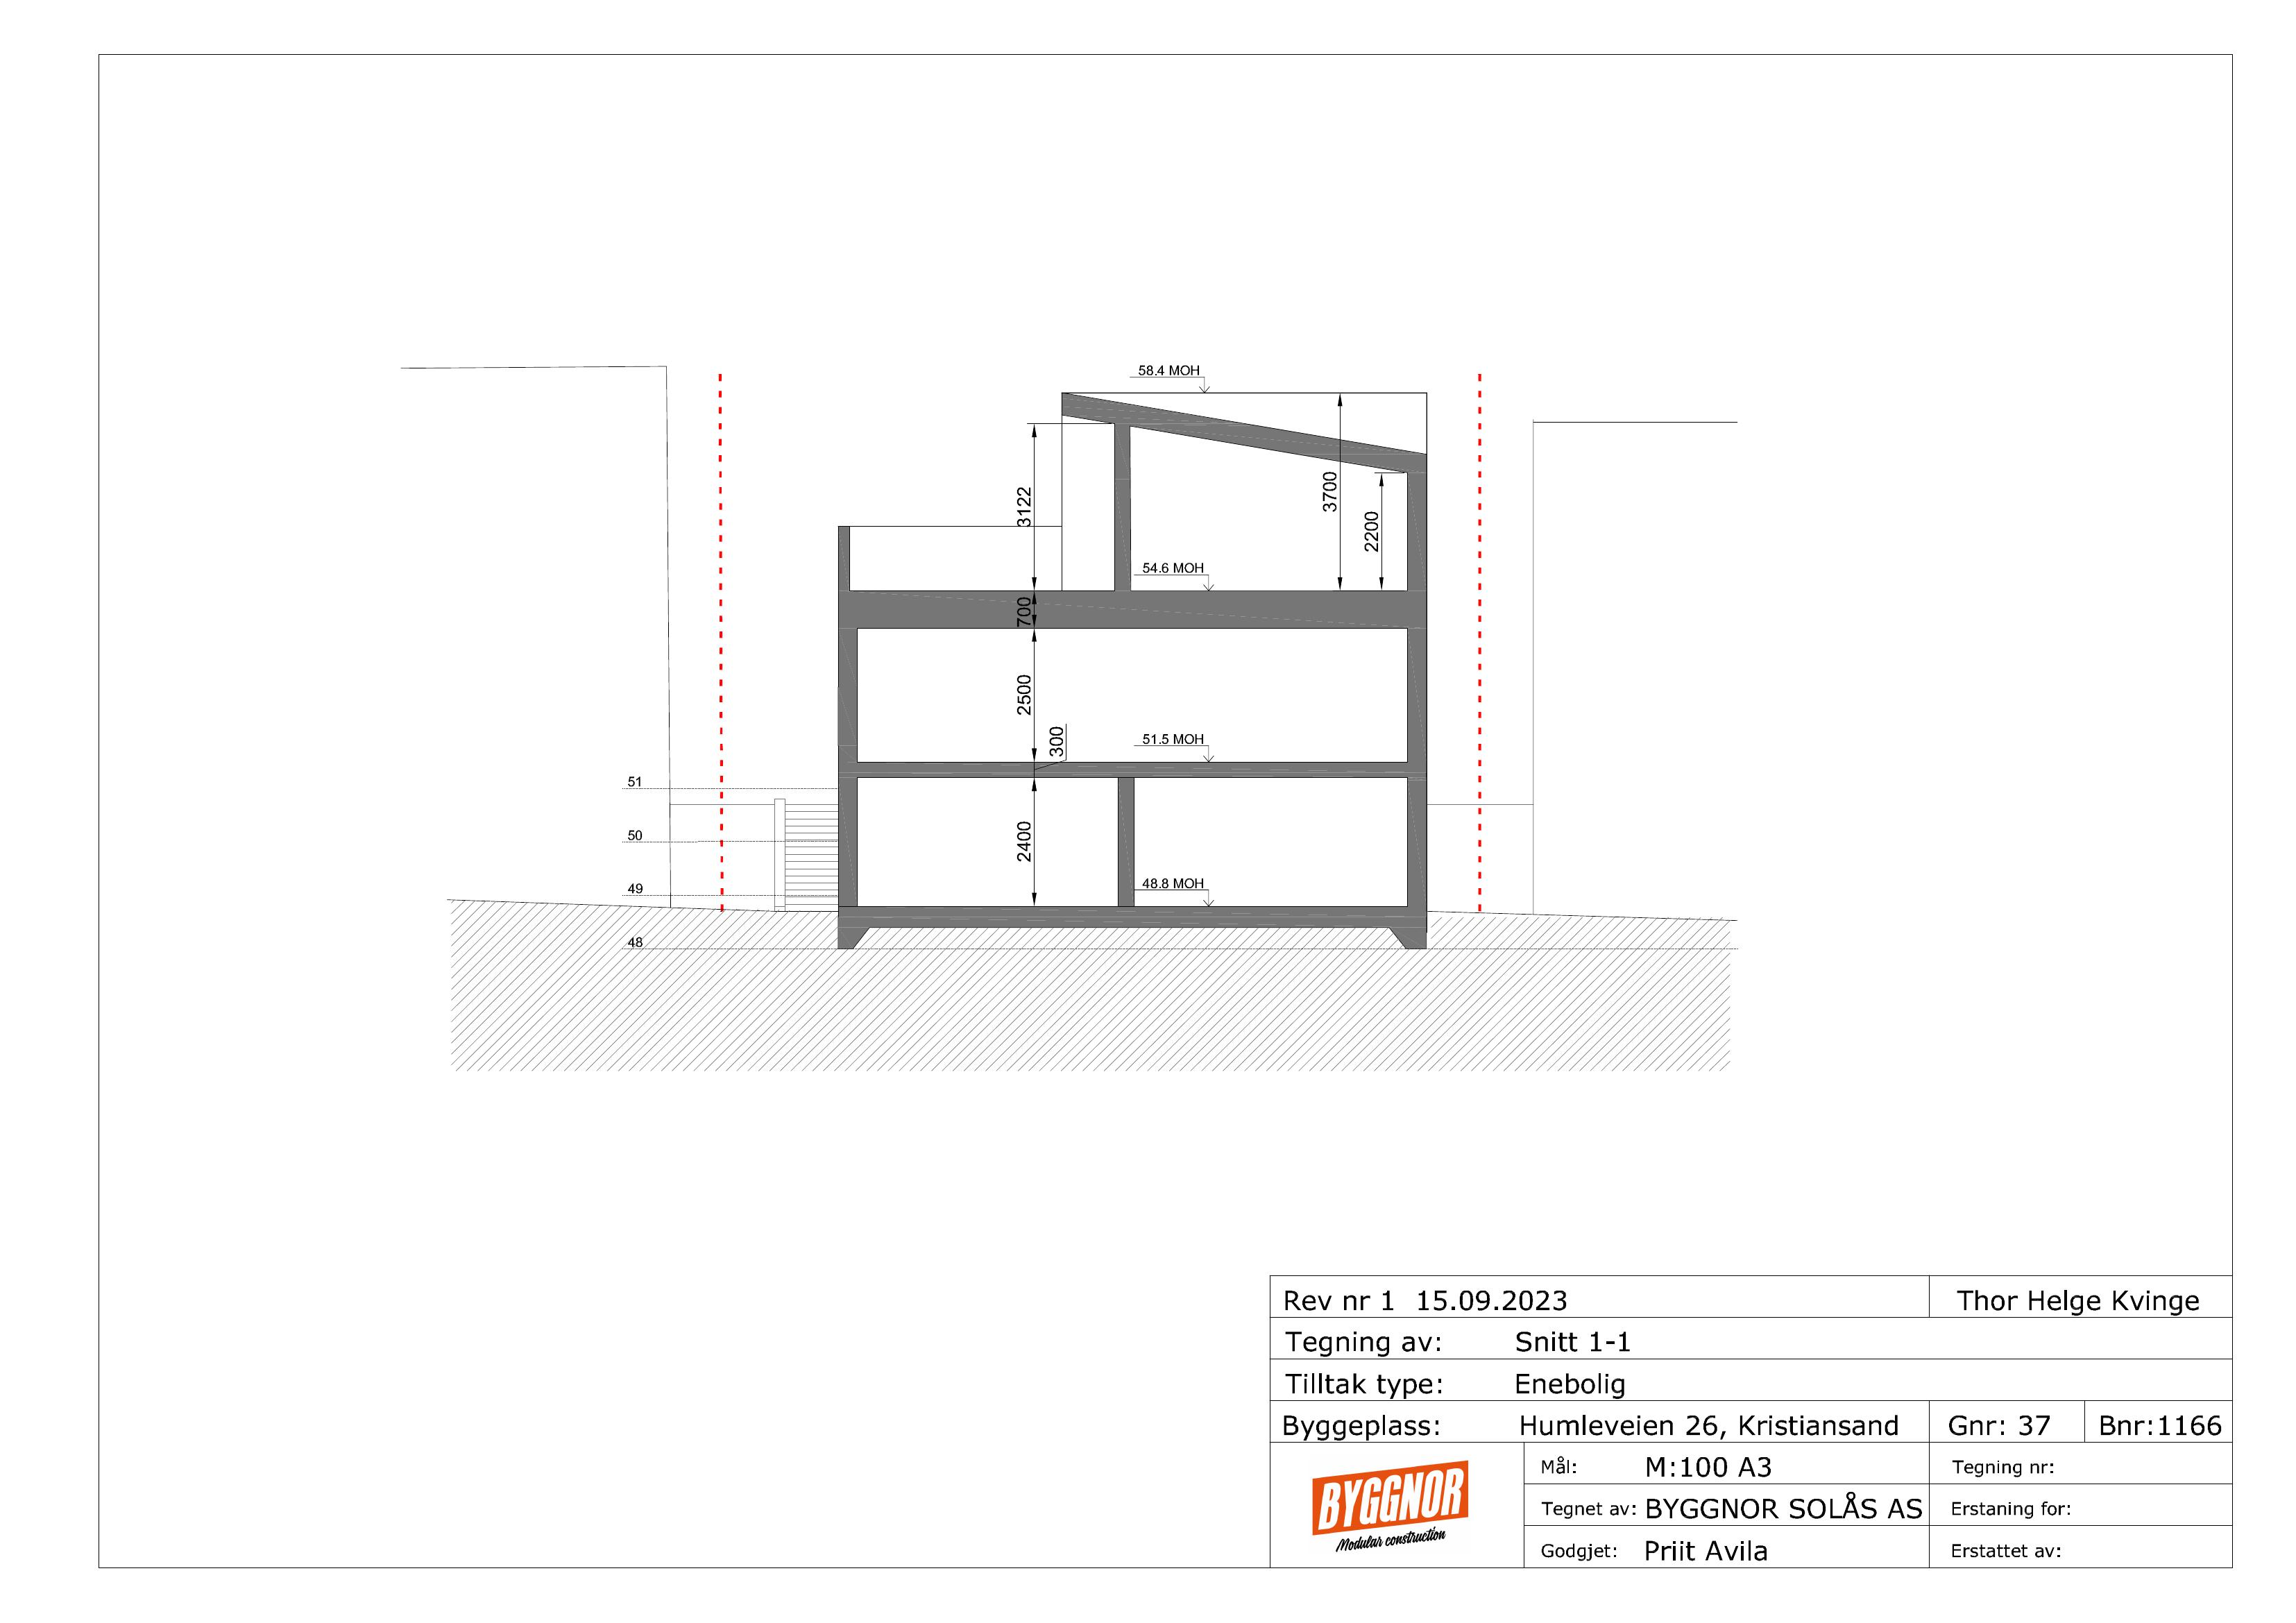snitt: (736, 368, 1523, 969)
